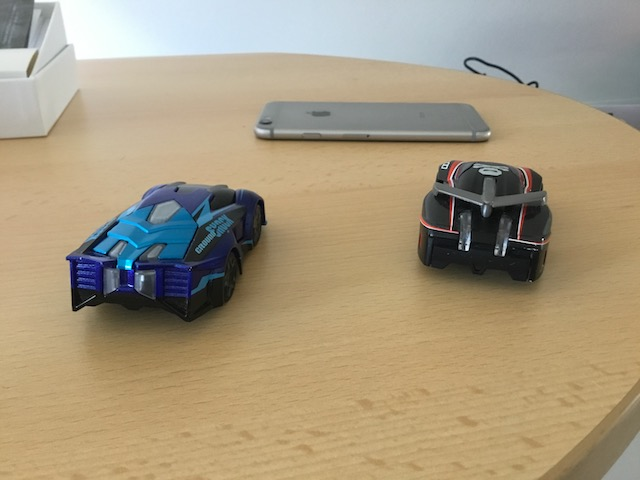car-blue: (63, 177, 269, 326)
car-red: (414, 155, 554, 286)
phone: (253, 96, 495, 146)
